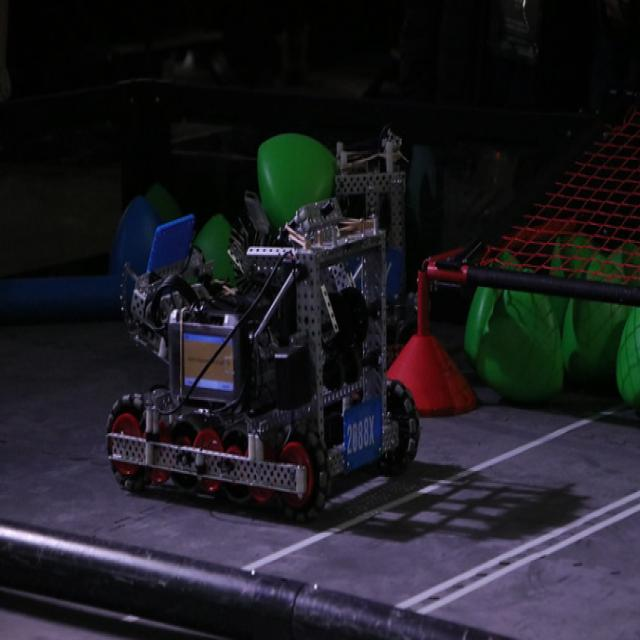License-Plates: (341, 406, 380, 462)
